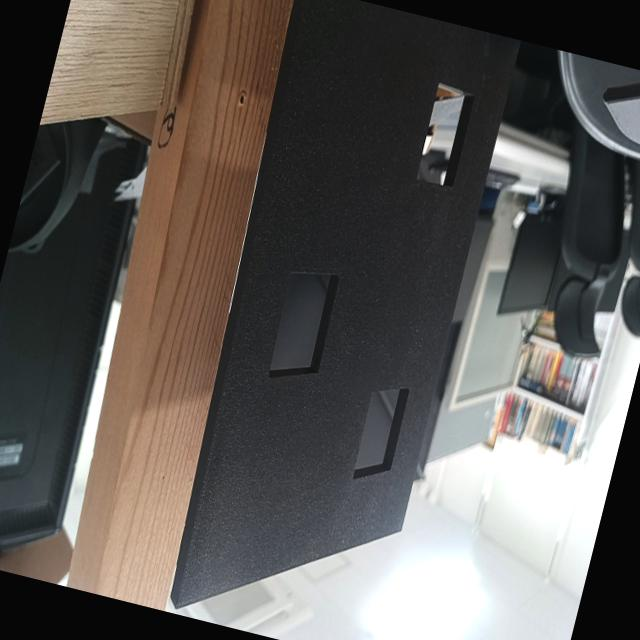Obstacle: (269, 273, 338, 378), (414, 84, 473, 188), (353, 389, 408, 478)
Wall: (177, 0, 523, 610)
